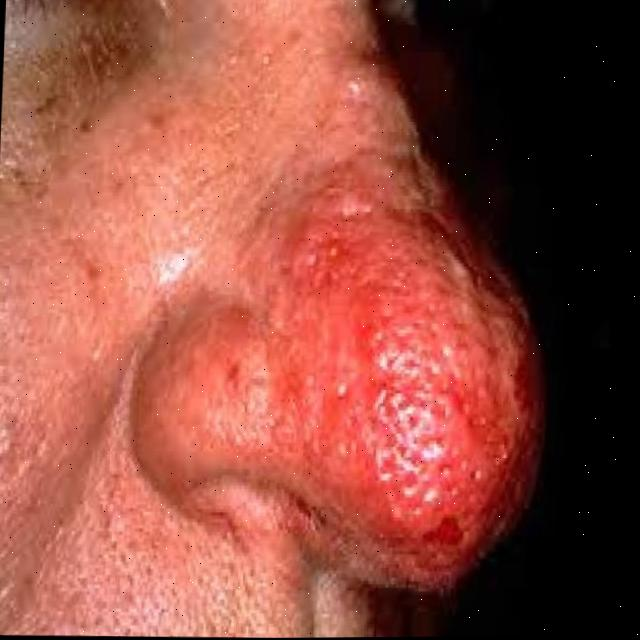Rosacea: (239, 171, 553, 567)
